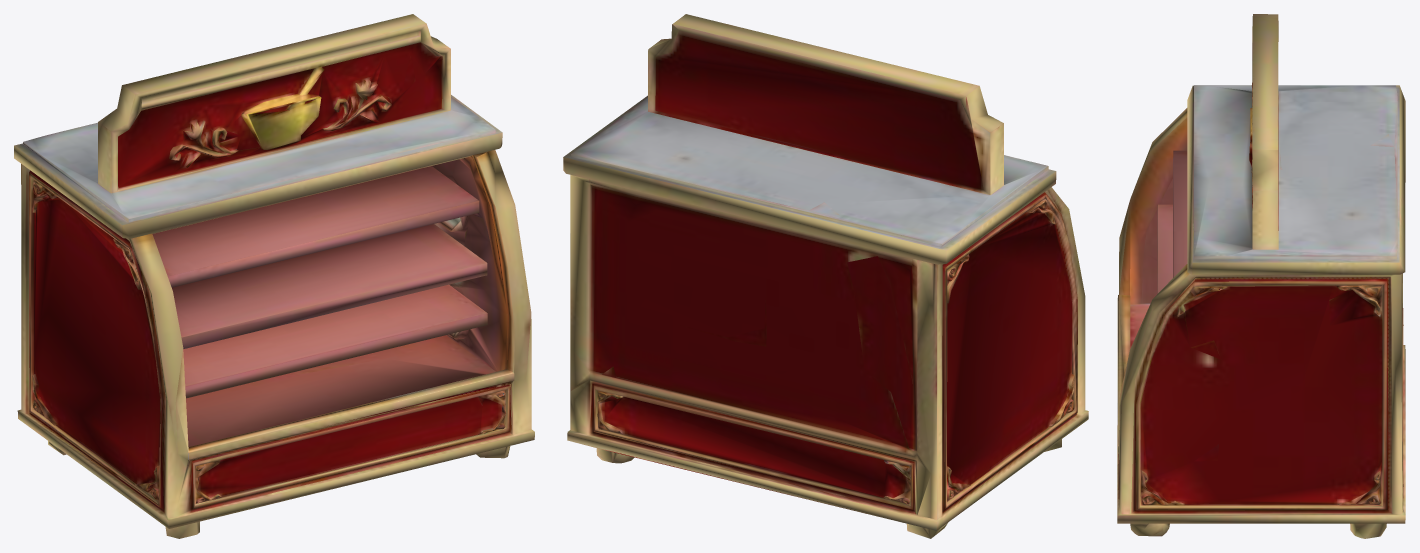
The model's file is shushigui-3.glb.
The picture shows the model from 3 angles, left to right: view 1: azimuth 30°, elevation 25°; view 2: azimuth 150°, elevation 25°; view 3: azimuth 270°, elevation 25°; orthographic projection. The views are drawn at different scales.
Parts seen in each view (by area): view 1: node_0; view 2: node_0; view 3: node_0.
Part boxes in pixels (x1,y1,x2,y2): node_0: (14, 14, 534, 538); node_0: (563, 14, 1088, 538); node_0: (1117, 14, 1405, 538).
Bounding box in the file's own units: 0.8155 × 0.8132 × 0.5608.
1 material, 1 textured.
